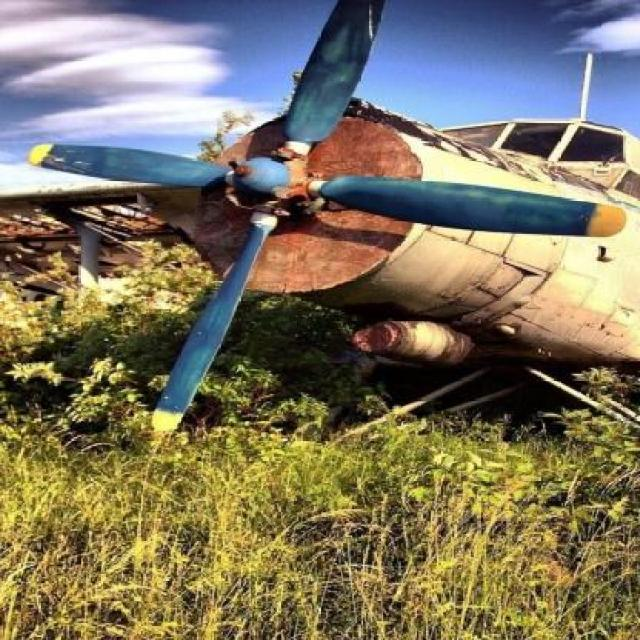corrosion: (37, 105, 640, 360)
